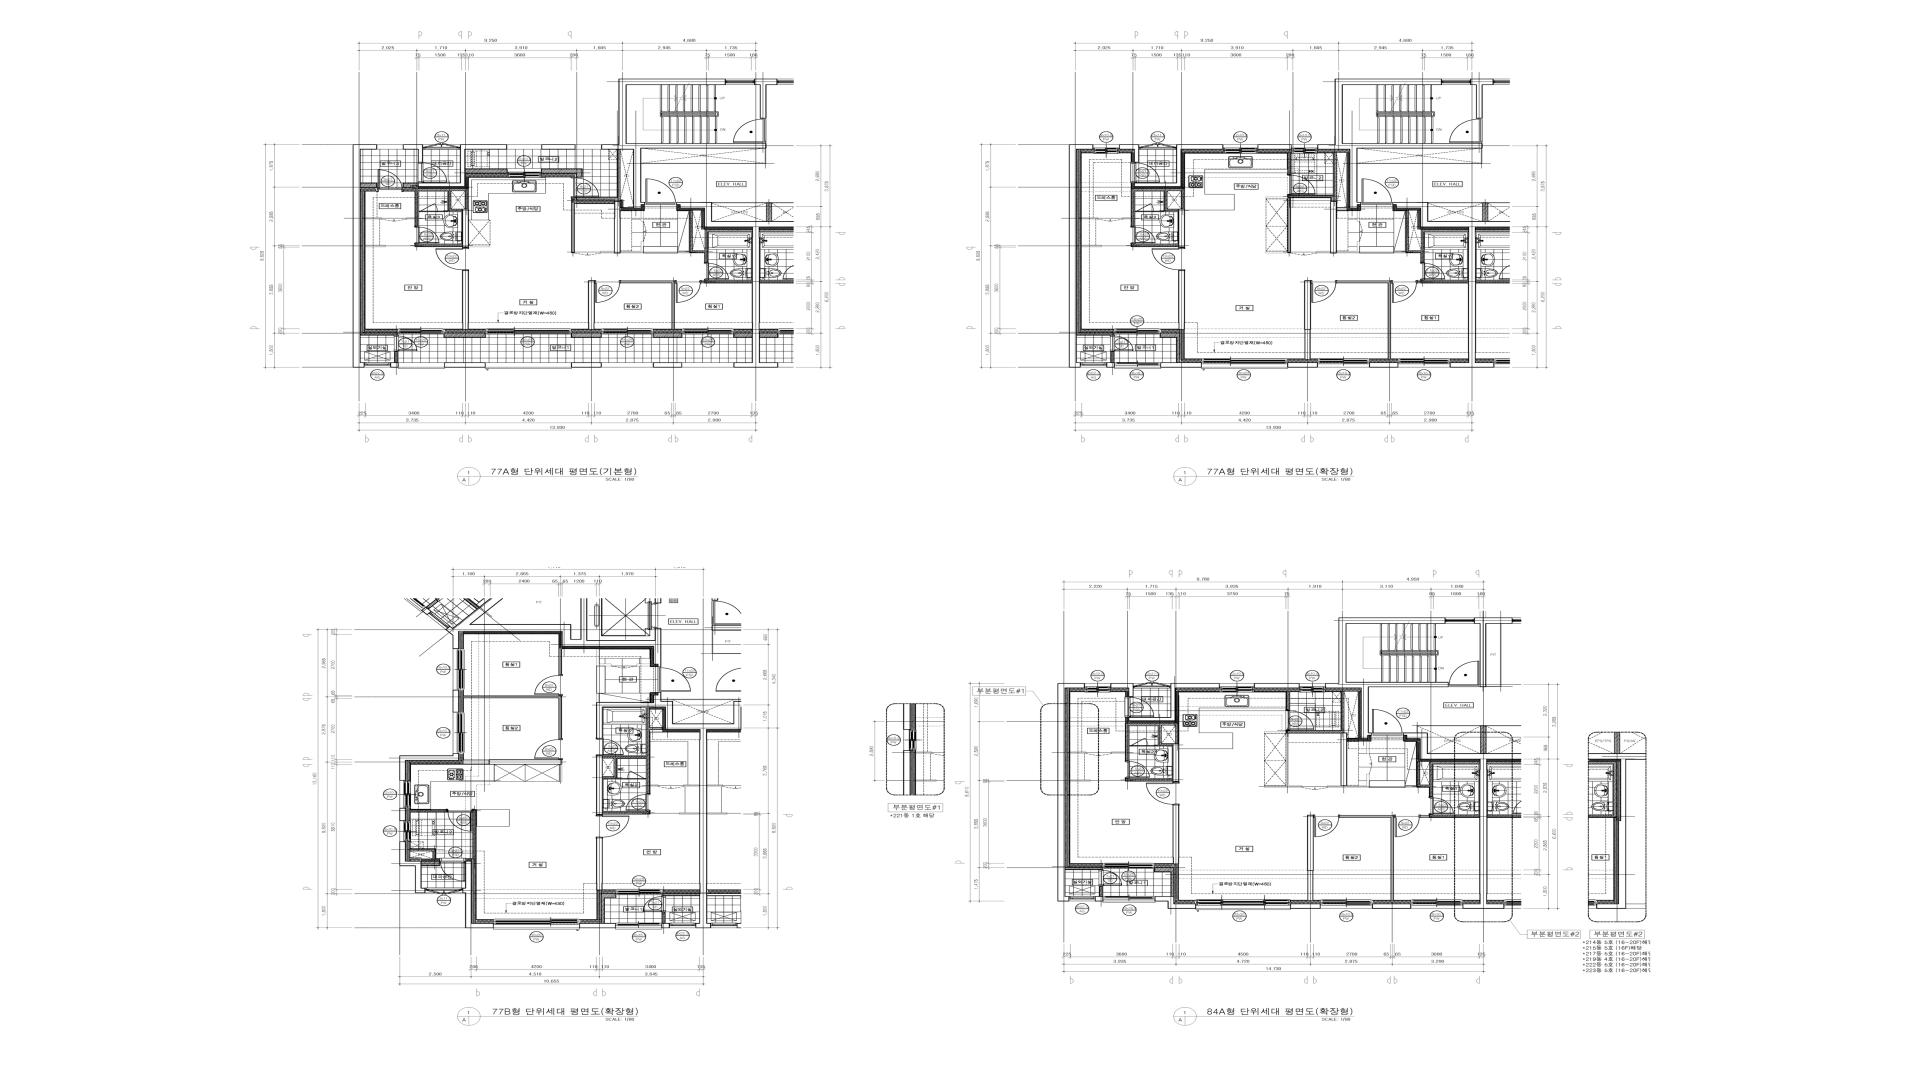door: (1361, 178, 1393, 204), (645, 178, 676, 204), (1449, 661, 1481, 687), (1449, 119, 1482, 144), (733, 119, 766, 144), (658, 667, 691, 692), (1146, 781, 1180, 804), (1151, 247, 1185, 270), (435, 247, 469, 270), (1371, 709, 1403, 735), (596, 815, 629, 839), (1311, 280, 1337, 303), (1391, 280, 1418, 303), (1125, 696, 1154, 717), (1287, 174, 1316, 195), (534, 738, 563, 760), (1130, 162, 1160, 182), (1313, 815, 1340, 837), (439, 858, 465, 881), (377, 169, 404, 191), (595, 280, 621, 302), (675, 280, 702, 302), (1394, 815, 1420, 837), (571, 177, 599, 198), (1286, 711, 1315, 731), (418, 162, 447, 182), (534, 675, 563, 695), (447, 808, 472, 831), (596, 738, 624, 756), (1130, 225, 1155, 244), (414, 225, 439, 244), (1125, 761, 1150, 778), (1429, 796, 1455, 814), (1420, 262, 1445, 280), (704, 262, 729, 280), (625, 794, 650, 811), (642, 895, 666, 913), (1098, 870, 1122, 886), (1110, 335, 1134, 351), (394, 335, 417, 351), (426, 887, 463, 894), (1139, 142, 1176, 149), (423, 142, 460, 149), (1131, 737, 1149, 746), (1137, 203, 1154, 212), (421, 203, 438, 212), (628, 770, 645, 779), (1097, 218, 1124, 222), (1291, 252, 1317, 256), (575, 252, 601, 256), (381, 218, 407, 222), (1087, 752, 1112, 756), (1303, 786, 1328, 790), (658, 785, 683, 789), (1360, 222, 1364, 241), (612, 666, 637, 669), (644, 222, 646, 241)
wall: (596, 692, 741, 928), (1317, 78, 1484, 208), (601, 78, 766, 208), (1393, 202, 1510, 368), (676, 202, 778, 368), (446, 597, 662, 667), (1325, 617, 1449, 738), (1403, 732, 1487, 909), (1265, 691, 1345, 787), (1266, 152, 1337, 253), (1058, 683, 1085, 902), (352, 144, 377, 368), (1069, 144, 1093, 368), (603, 707, 663, 794), (1340, 815, 1394, 901), (463, 695, 562, 738), (1337, 281, 1391, 360), (418, 144, 508, 186), (1134, 144, 1224, 186), (1129, 683, 1220, 721), (1406, 210, 1469, 262), (690, 210, 752, 262), (1420, 765, 1480, 818), (1474, 617, 1513, 687), (621, 281, 675, 330), (1112, 723, 1179, 761), (1124, 189, 1185, 227), (1328, 732, 1370, 787), (406, 189, 468, 225), (1416, 761, 1480, 796), (576, 149, 620, 200), (463, 861, 493, 928), (641, 148, 766, 164), (1358, 148, 1482, 164), (1125, 746, 1174, 781), (400, 753, 459, 781), (1317, 200, 1348, 253), (400, 841, 426, 893), (600, 200, 621, 253), (1486, 624, 1502, 687), (754, 78, 778, 119), (1470, 79, 1494, 119), (1416, 725, 1522, 732), (1160, 332, 1180, 363), (1154, 868, 1174, 897), (1307, 815, 1313, 901), (1304, 280, 1311, 360), (463, 760, 562, 765), (1155, 897, 1196, 909), (462, 270, 469, 330), (601, 893, 616, 923), (1172, 804, 1179, 864), (1179, 270, 1185, 330), (596, 756, 603, 815), (402, 144, 423, 162), (1120, 144, 1139, 162), (596, 837, 603, 890), (588, 280, 595, 330), (542, 169, 583, 177), (1110, 683, 1134, 696), (462, 208, 469, 247), (410, 848, 436, 858), (596, 649, 612, 666), (621, 241, 644, 253), (1337, 241, 1360, 253), (1172, 744, 1179, 782), (1179, 208, 1185, 247), (1254, 683, 1300, 688), (465, 169, 508, 174), (443, 332, 485, 338), (571, 198, 575, 253), (444, 363, 485, 368), (1160, 363, 1201, 368), (1373, 903, 1411, 909), (702, 280, 752, 284), (1418, 280, 1468, 284), (579, 923, 616, 928), (472, 810, 476, 858), (1131, 243, 1179, 247), (603, 811, 650, 815), (1258, 144, 1292, 149), (542, 144, 575, 149), (1287, 363, 1319, 368), (653, 332, 683, 338), (571, 332, 601, 338), (1369, 363, 1399, 368), (1291, 903, 1321, 909), (653, 363, 682, 368), (572, 363, 601, 368), (452, 690, 459, 712), (1481, 725, 1486, 753), (662, 893, 699, 897), (414, 244, 463, 247), (1482, 203, 1489, 222), (1287, 152, 1292, 174), (1428, 202, 1510, 203), (662, 699, 741, 700), (360, 332, 398, 335), (1065, 868, 1102, 870), (733, 332, 752, 338), (1077, 332, 1114, 335), (410, 810, 447, 812), (422, 861, 440, 866), (360, 182, 377, 187), (402, 182, 418, 187), (1286, 691, 1290, 711), (400, 808, 406, 820), (559, 647, 562, 675), (1098, 886, 1104, 897), (679, 812, 699, 815), (1095, 897, 1104, 902), (662, 911, 666, 923), (1110, 351, 1114, 363), (394, 351, 398, 363), (1106, 363, 1114, 368), (390, 363, 398, 368), (662, 923, 670, 928), (637, 663, 650, 666), (1367, 741, 1370, 753), (641, 211, 644, 222), (1357, 211, 1360, 222), (1071, 779, 1091, 781), (1081, 245, 1101, 247), (365, 245, 385, 247), (1071, 752, 1087, 753), (683, 785, 699, 786), (1081, 218, 1097, 219), (365, 218, 381, 219), (418, 211, 421, 212)
window: (1196, 899, 1291, 910), (1321, 899, 1373, 909), (1411, 899, 1462, 909), (1201, 364, 1288, 369), (485, 363, 572, 368), (493, 919, 579, 924), (493, 924, 579, 930), (1201, 359, 1287, 364), (485, 328, 571, 334), (1399, 359, 1451, 367), (1319, 359, 1369, 367), (1102, 862, 1154, 869), (1104, 895, 1155, 902), (456, 712, 464, 753), (456, 649, 464, 690), (1220, 683, 1254, 692), (1224, 144, 1258, 153), (508, 169, 542, 178), (616, 889, 662, 895), (601, 328, 653, 334), (682, 328, 733, 334), (1134, 682, 1171, 688), (1299, 683, 1325, 692), (1114, 328, 1160, 334), (1291, 144, 1317, 153), (1093, 144, 1120, 153), (398, 363, 444, 368), (398, 328, 443, 334), (1085, 683, 1110, 692), (404, 781, 411, 808), (601, 363, 653, 367), (682, 363, 733, 367), (1445, 617, 1474, 624), (616, 926, 662, 930), (1114, 365, 1160, 369), (508, 144, 542, 149), (404, 820, 411, 841), (452, 712, 456, 753), (452, 649, 456, 690), (725, 79, 754, 84), (1443, 79, 1470, 84), (1080, 363, 1106, 368), (575, 144, 601, 149), (1069, 895, 1095, 901), (670, 923, 695, 928), (377, 144, 402, 149), (616, 923, 662, 926), (1114, 363, 1160, 365), (400, 781, 404, 808), (364, 363, 390, 367), (400, 820, 404, 841)
